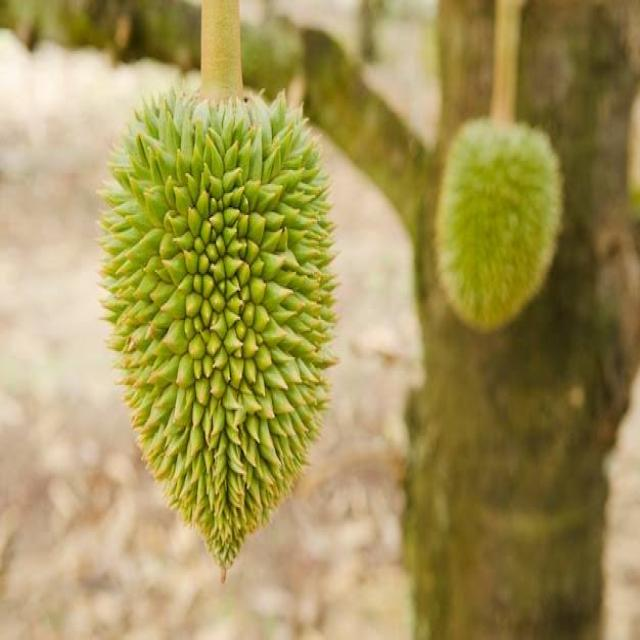immature: (100, 87, 344, 579), (430, 110, 565, 334)
